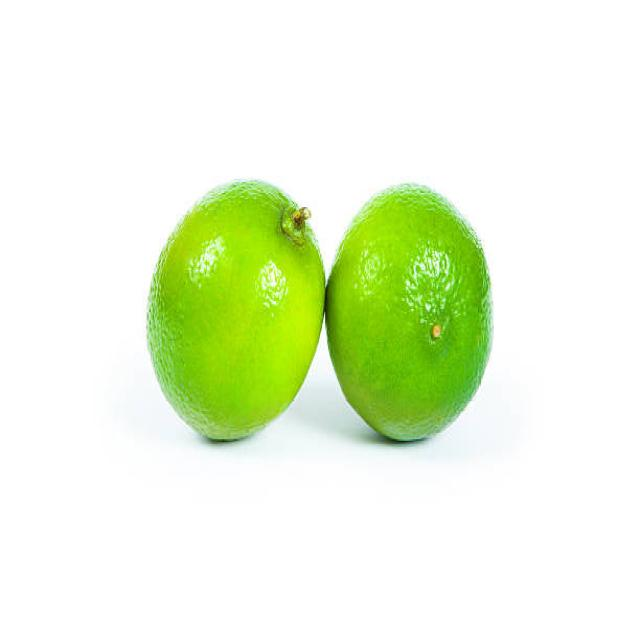Unripe: (145, 178, 325, 440), (326, 180, 493, 442)
